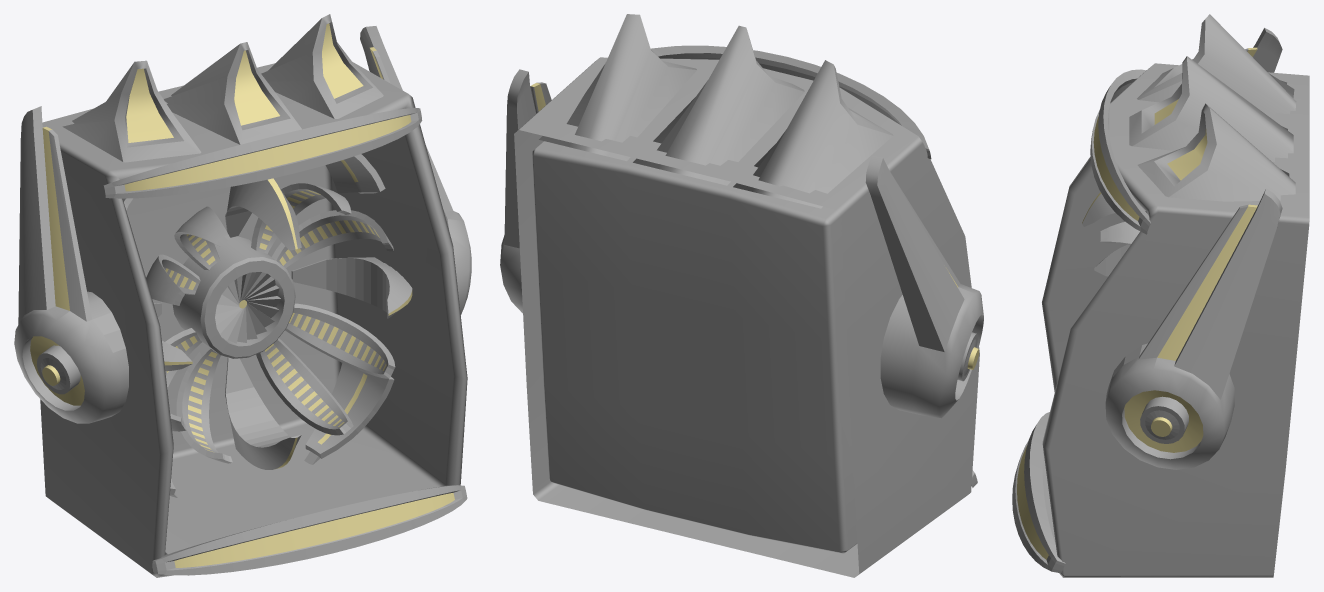
The model's file is Chamber_2.fbx.
3 views of the same model, side by side, from view 1: azimuth 30°, elevation 25°; view 2: azimuth 150°, elevation 25°; view 3: azimuth 270°, elevation 25° (orthographic). The views are drawn at different scales.
Parts seen in each view (by area): view 1: Chamber, Hardware1; view 2: Chamber; view 3: Chamber, Hardware1.
Part boxes in pixels (x1=…): Chamber: x1=14, y1=14, x2=471, y2=577; Hardware1: x1=146, y1=178, x2=412, y2=469; Chamber: x1=500, y1=14, x2=983, y2=577; Chamber: x1=1012, y1=14, x2=1309, y2=577; Hardware1: x1=1082, y1=192, x2=1146, y2=276.
Bounding box in the file's own units: 544 × 549 × 330.
